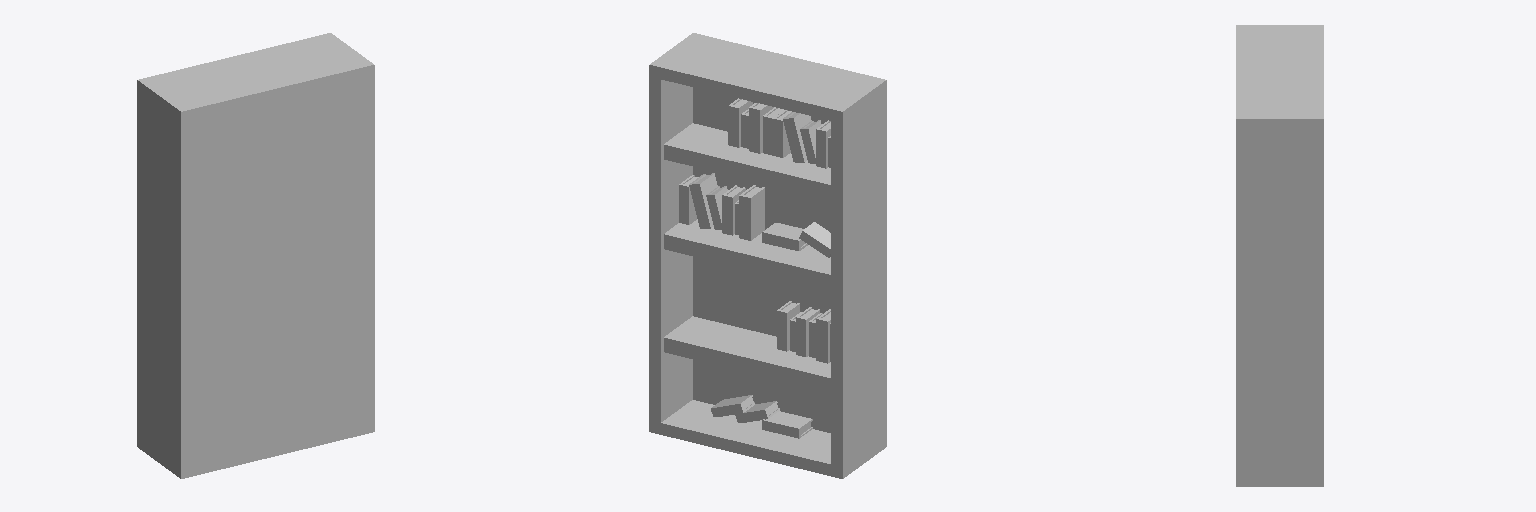
File: BooksShelf.obj
The picture shows the model from 3 angles: view 1: azimuth 30°, elevation 25°; view 2: azimuth 150°, elevation 25°; view 3: azimuth 270°, elevation 25°; orthographic projection.
Visible parts, largest first — view 1: BookCase; view 2: BookCase, Book.005, Book.001, Book.025, Book.006, Book.016, Book.022, Book.014, Book.024, Book.010, Book.007, Book.003 (+7 smaller); view 3: BookCase.
Part boxes in pixels (left/top/right/bottom): BookCase: left=137, top=33, right=374, bottom=478; BookCase: left=649, top=33, right=886, bottom=478; Book.005: left=739, top=185, right=764, bottom=240; Book.001: left=689, top=173, right=717, bottom=228; Book.025: left=762, top=411, right=812, bottom=438; Book.006: left=762, top=223, right=807, bottom=250; Book.016: left=783, top=112, right=811, bottom=162; Book.022: left=749, top=103, right=773, bottom=153; Book.014: left=777, top=301, right=799, bottom=351; Book.024: left=728, top=98, right=752, bottom=147; Book.010: left=816, top=309, right=830, bottom=363; Book.007: left=799, top=222, right=830, bottom=257; Book.003: left=722, top=185, right=745, bottom=235; BookCase: left=1236, top=25, right=1323, bottom=486.
Bounding box in the file's own units: 16.66 × 30.24 × 6.53.